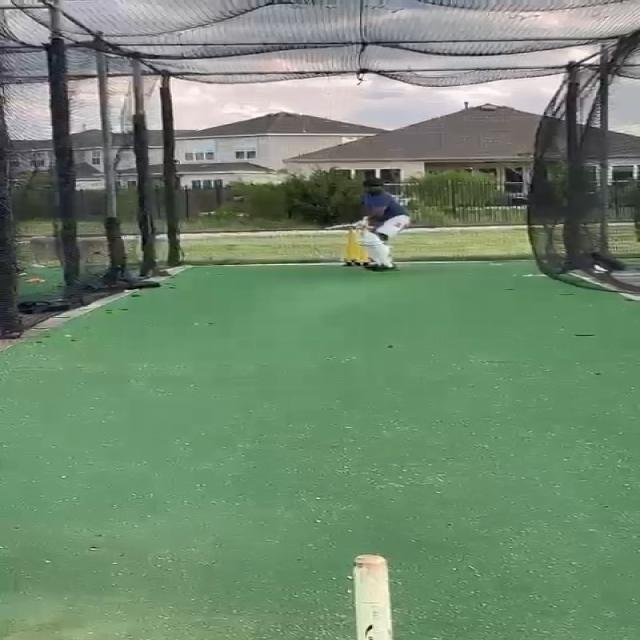batsman: (323, 176, 415, 274)
